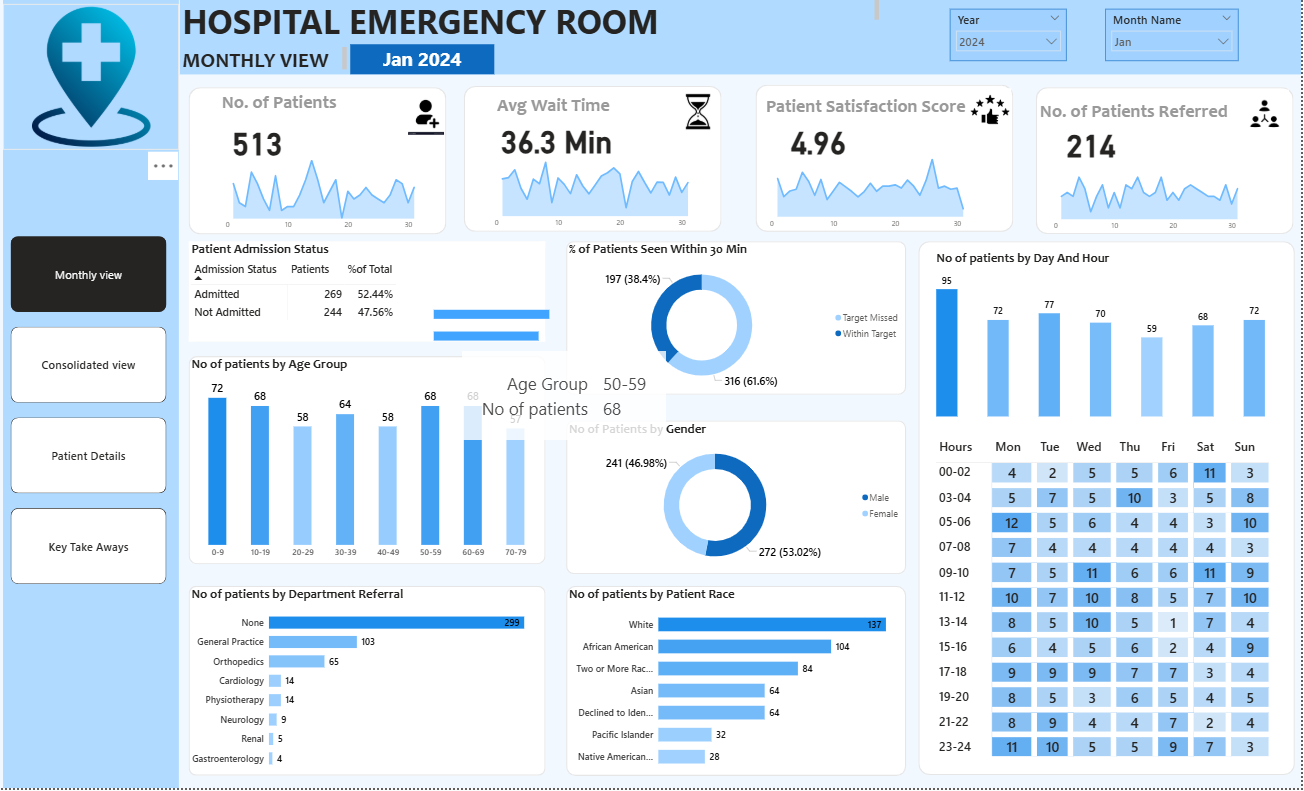

This screenshot's page, from the dashboard's own definition file:
{"tool":"powerbi","page":{"name":"Monthly view","canvas":[2300,1400],"ordinal":0},"visuals":[{"type":"shape","box":[9.7,0,310.3,1401.1],"z":0},{"type":"shape","box":[320.5,0,1980,140.5],"z":1000},{"type":"textbox","box":[320,0,1238.7,87.3],"z":2000},{"type":"shape","box":[337.5,162.5,455,260],"z":3000},{"type":"textbox","box":[320,87.5,300,52.5],"z":4000},{"type":"card","fields":{"Values":["Hospital ER_Data.No of patients"]},"box":[358.8,218.2,196.4,77.6],"z":5000},{"type":"slicer","fields":{"Values":["Date Table.Year"]},"box":[1679.9,24.2,206.1,92.1],"z":6000},{"type":"slicer","fields":{"Values":["Date Table.Month Name"]},"box":[1953.8,24.2,235.1,92.1],"z":7000},{"type":"textbox","box":[390.3,164.8,230.3,53.3],"z":8000},{"type":"areaChart","fields":{"Y":["Hospital ER_Data.No of patients"],"Category":["Date Table.Date.Variation.Date Hierarchy.Day"]},"box":[390.3,278.8,402.4,145.4],"z":9000},{"type":"card","fields":{"Values":["Min(Date Table.Month & Year)"]},"box":[620.6,87.3,254.5,53.3],"z":10000},{"type":"shape","box":[822.5,160,455,257.5],"z":11000},{"type":"card","fields":{"Values":["Hospital ER_Data.Avg Wait Time"]},"box":[875.1,213.3,220.6,77.6],"z":12000},{"type":"textbox","box":[875.1,169.7,252.1,53.3],"z":13000},{"type":"areaChart","fields":{"Y":["Avg(Hospital ER_Data.Patient Waittime)"],"Category":["Date Table.Date.Variation.Date Hierarchy.Day"]},"box":[865.4,273.9,412.1,145.4],"z":14000},{"type":"shape","box":[1337.5,157.5,455,260],"z":15000},{"type":"card","fields":{"Values":["Hospital ER_Data.Satisfaction Score"]},"box":[1369.6,215.7,155.1,77.6],"z":16000},{"type":"textbox","box":[1351.1,171.1,393.3,53.3],"z":17000},{"type":"areaChart","fields":{"Category":["Date Table.Date.Variation.Date Hierarchy.Day"],"Y":["Hospital ER_Data.Satisfaction Score"]},"box":[1350.2,276.3,412.1,145.4],"z":18000},{"type":"shape","box":[337.5,435,630,177.5],"z":19000},{"type":"shape","box":[1832.6,162.4,455,259.4],"z":20000},{"type":"card","fields":{"Values":["Hospital ER_Data.No of Patients Referred"]},"box":[1852,220.6,155.1,77.6],"z":21000},{"type":"textbox","box":[1833.3,180,373.3,53.3],"z":22000},{"type":"areaChart","fields":{"Category":["Date Table.Date.Variation.Date Hierarchy.Day"],"Y":["Hospital ER_Data.No of Patients Referred"]},"box":[1852,281.2,392.7,145.4],"z":23000},{"type":"pivotTable","title":"Patient Admission Status","fields":{"Rows":["Hospital ER_Data.Admission Status"],"Values":["Hospital ER_Data.No of patients1","Hospital ER_Data.No of patients"]},"box":[337.5,435,630,177.5],"z":24000},{"type":"barChart","fields":{"Category":["Hospital ER_Data.Admission Status"],"Y":["Hospital ER_Data.No of patients"]},"box":[763.6,523.6,237.6,113.9],"z":25000},{"type":"shape","box":[337.5,637.5,630,367.5],"z":26000},{"type":"clusteredColumnChart","fields":{"Category":["Hospital ER_Data.Age Group"],"Y":["Hospital ER_Data.No of patients"]},"box":[337.5,637.5,630,367.5],"z":27000},{"type":"shape","box":[337.5,1042.5,630,335],"z":28000},{"type":"clusteredBarChart","fields":{"Category":["Hospital ER_Data.Department Referral"],"Y":["Hospital ER_Data.No of patients"]},"box":[337.5,1042.5,630,335],"z":29000},{"type":"shape","box":[1002.2,435.6,600,271.1],"z":30000},{"type":"donutChart","title":"% of Patients Seen Within 30 Min","fields":{"Category":["Hospital ER_Data.Waittime Status"],"Y":["Hospital ER_Data.No of patients"]},"box":[1002.2,435.6,600,268.9],"z":31000},{"type":"shape","box":[1002.2,751.1,600,271.1],"z":32000},{"type":"donutChart","title":"No of Patients by  Gender","fields":{"Category":["Hospital ER_Data.Patient Gender"],"Y":["Hospital ER_Data.No of patients"]},"box":[1002.2,751.1,600,271.1],"z":33000},{"type":"shape","box":[1002.2,1042.2,600,335.6],"z":34000},{"type":"clusteredBarChart","fields":{"Y":["Hospital ER_Data.No of patients"],"Category":["Hospital ER_Data.Patient Race"]},"box":[1002.2,1042.2,600,335.6],"z":35000},{"type":"shape","box":[1624.4,435.6,664.4,942.2],"z":36000},{"type":"pivotTable","fields":{"Rows":["Hospital ER_Data.Waittime Interval"],"Columns":["Date Table.Day Name"],"Values":["Hospital ER_Data.No of patients"]},"box":[1651.1,775.6,604.4,584.4],"z":37000},{"type":"columnChart","title":"No of patients by Day And Hour","fields":{"Category":["Date Table.Day Name"],"Y":["Hospital ER_Data.No of patients"]},"box":[1651.1,451.1,593.3,300],"z":38000},{"type":"image","box":[2188.9,157.8,95.6,102.2],"z":39000},{"type":"image","box":[717.8,173.3,75.6,77.8],"z":40000},{"type":"image","box":[1708.9,157.8,84.4,86.7],"z":41000},{"type":"image","box":[1193.3,166.7,82.2,77.8],"z":42000},{"type":"image","box":[8.9,15.6,311.1,257.8],"z":43000},{"type":"pageNavigator","box":[22.2,426.7,275.6,615.6],"z":44000}]}

Visuals, with their boxes in screenshot pixels (x1, y1, x2, y2), scaled from the page's 2300x1400 canvas onto the 1304x791 screenshot:
shape: [5, 0, 181, 790]
shape: [182, 0, 1303, 79]
textbox: [181, 0, 884, 49]
shape: [191, 92, 449, 239]
textbox: [181, 49, 352, 79]
card - Hospital ER_Data.No of patients: [203, 123, 315, 167]
slicer - Date Table.Year: [952, 14, 1069, 66]
slicer - Date Table.Month Name: [1108, 14, 1241, 66]
textbox: [221, 93, 352, 123]
areaChart - Hospital ER_Data.No of patients x Date Table.Date.Variation.Date Hierarchy.Day: [221, 158, 449, 240]
card - Min(Date Table.Month & Year): [352, 49, 496, 79]
shape: [466, 90, 724, 236]
card - Hospital ER_Data.Avg Wait Time: [496, 121, 621, 164]
textbox: [496, 96, 639, 126]
areaChart - Avg(Hospital ER_Data.Patient Waittime) x Date Table.Date.Variation.Date Hierarchy.Day: [491, 155, 724, 237]
shape: [758, 89, 1016, 236]
card - Hospital ER_Data.Satisfaction Score: [777, 122, 864, 166]
textbox: [766, 97, 989, 127]
areaChart - Date Table.Date.Variation.Date Hierarchy.Day x Hospital ER_Data.Satisfaction Score: [766, 156, 999, 238]
shape: [191, 246, 549, 346]
shape: [1039, 92, 1297, 238]
card - Hospital ER_Data.No of Patients Referred: [1050, 125, 1138, 168]
textbox: [1039, 102, 1251, 132]
areaChart - Date Table.Date.Variation.Date Hierarchy.Day x Hospital ER_Data.No of Patients Referred: [1050, 159, 1273, 241]
"Patient Admission Status" pivotTable: [191, 246, 549, 346]
barChart - Hospital ER_Data.Admission Status x Hospital ER_Data.No of patients: [433, 296, 568, 360]
shape: [191, 360, 549, 568]
clusteredColumnChart - Hospital ER_Data.Age Group x Hospital ER_Data.No of patients: [191, 360, 549, 568]
shape: [191, 589, 549, 778]
clusteredBarChart - Hospital ER_Data.Department Referral x Hospital ER_Data.No of patients: [191, 589, 549, 778]
shape: [568, 246, 908, 399]
"% of Patients Seen Within 30 Min" donutChart: [568, 246, 908, 398]
shape: [568, 424, 908, 578]
"No of Patients by  Gender" donutChart: [568, 424, 908, 578]
shape: [568, 589, 908, 778]
clusteredBarChart - Hospital ER_Data.No of patients x Hospital ER_Data.Patient Race: [568, 589, 908, 778]
shape: [921, 246, 1298, 778]
pivotTable - Hospital ER_Data.Waittime Interval x Date Table.Day Name: [936, 438, 1279, 768]
"No of patients by Day And Hour" columnChart: [936, 255, 1272, 424]
image: [1241, 89, 1295, 147]
image: [407, 98, 450, 142]
image: [969, 89, 1017, 138]
image: [677, 94, 723, 138]
image: [5, 9, 181, 154]
pageNavigator: [13, 241, 169, 589]
